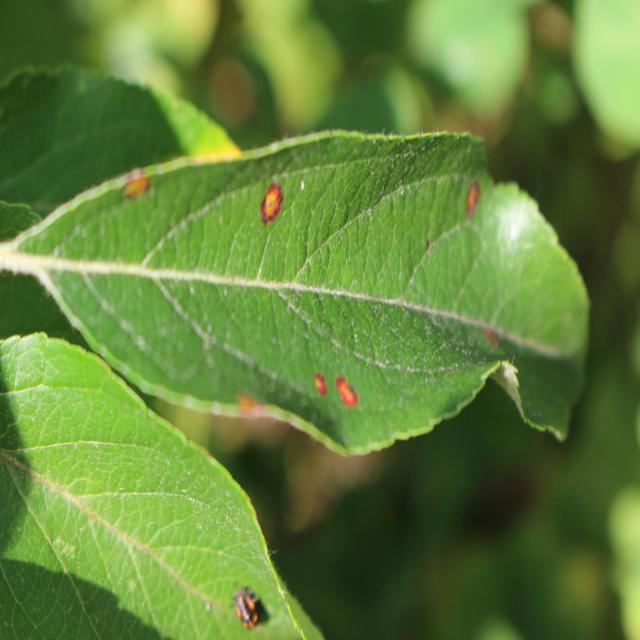Rust: (250, 175, 290, 229), (118, 158, 159, 209), (333, 362, 365, 426), (477, 314, 507, 364), (459, 174, 485, 221), (306, 358, 331, 406)
